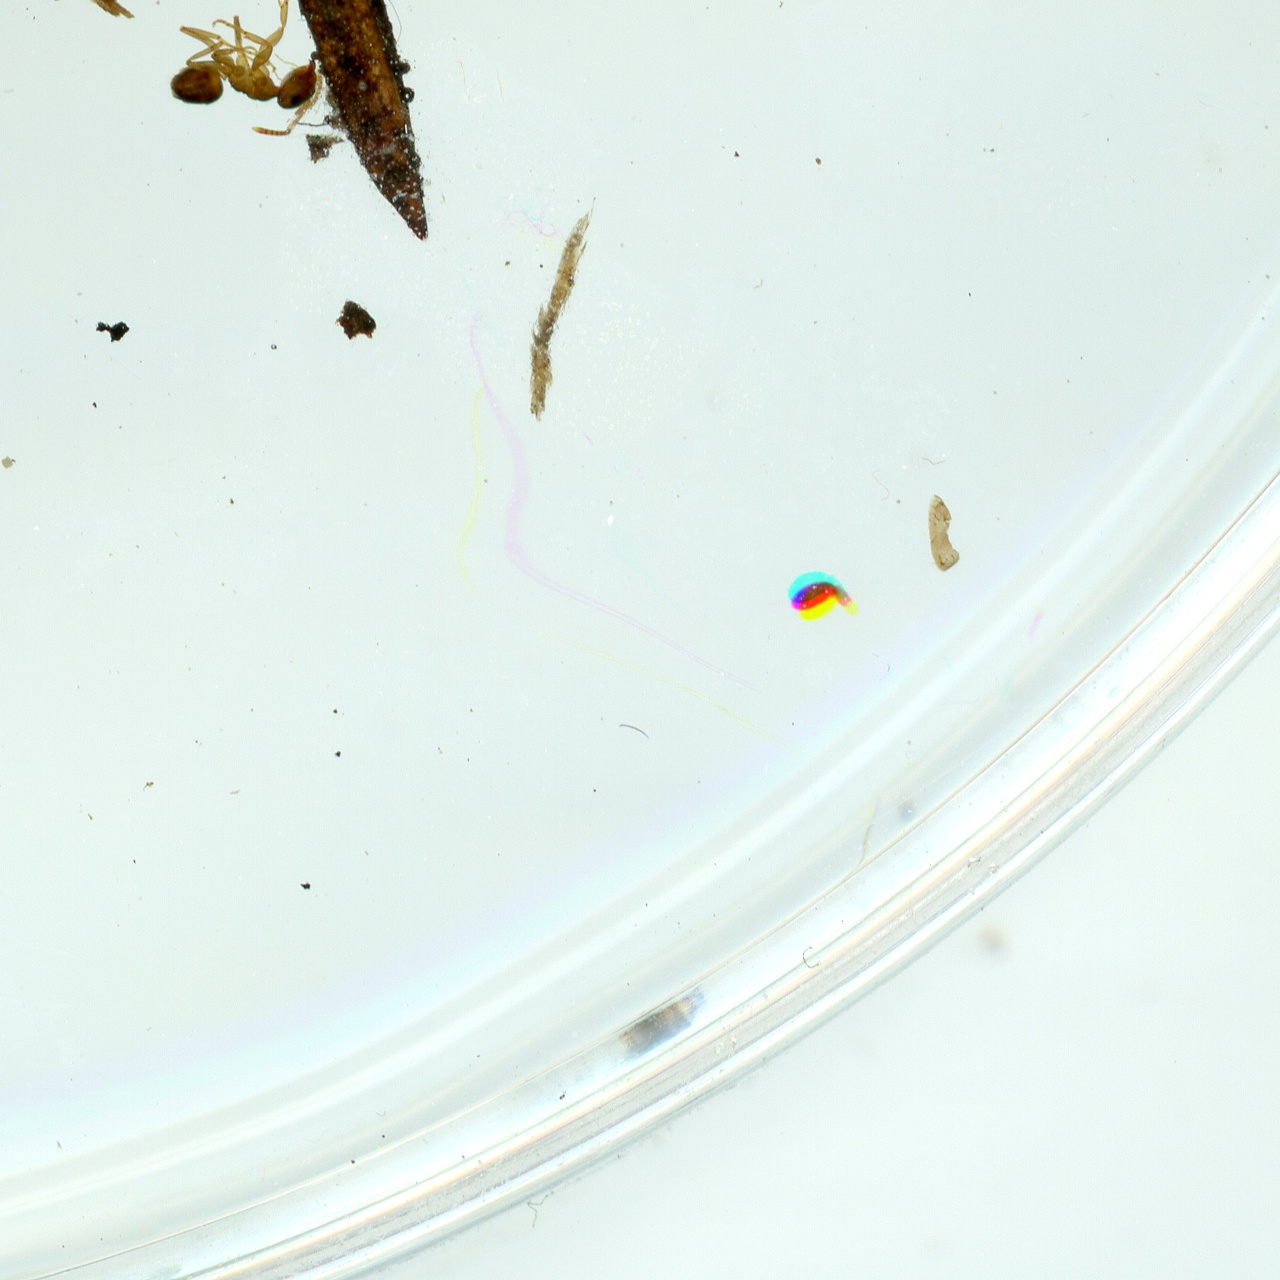arthropod: (166, 0, 326, 142)
